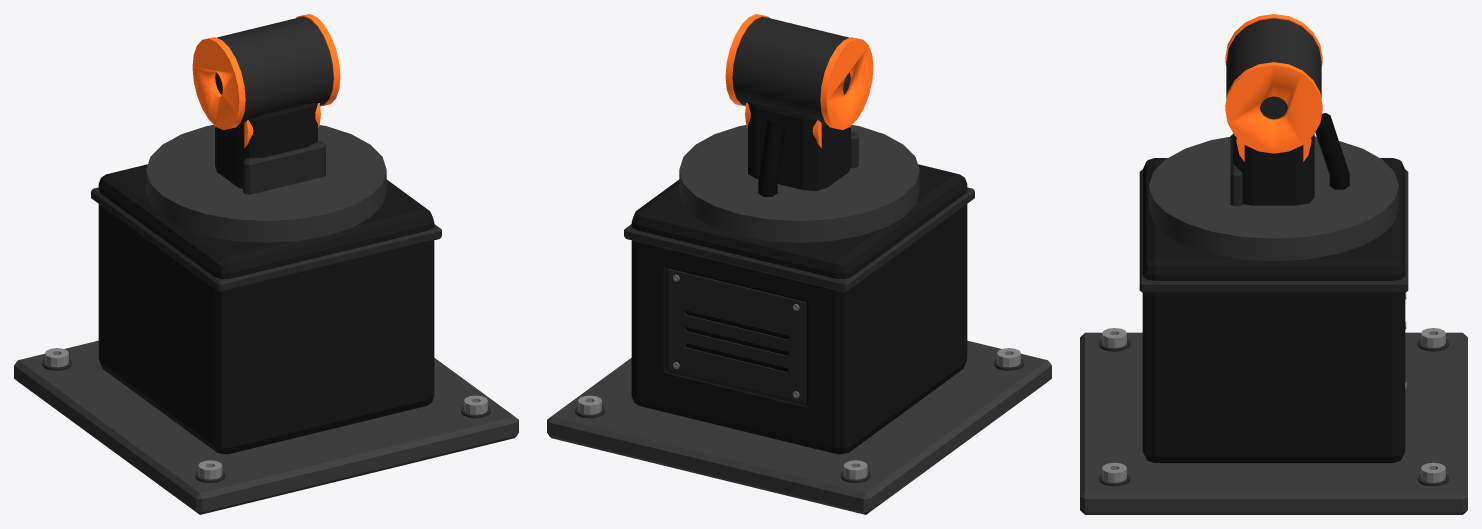
Rendered from robot-arm.glb.
The picture shows the model from 3 angles, left to right: view 1: azimuth 30°, elevation 25°; view 2: azimuth 150°, elevation 25°; view 3: azimuth 270°, elevation 25°; orthographic projection. The views are drawn at different scales.
Parts seen in each view (by area): view 1: robot-arm, UpperArm; view 2: robot-arm, UpperArm; view 3: robot-arm, UpperArm.
Part boxes in pixels (x1,y1,x2,y2): robot-arm: [14, 125, 518, 514]; UpperArm: [192, 14, 340, 194]; robot-arm: [547, 125, 1051, 514]; UpperArm: [725, 14, 873, 196]; robot-arm: [1080, 136, 1467, 514]; UpperArm: [1225, 14, 1349, 206].
Size of the model in its own units: 0.62 by 0.786 by 0.62.
Materials: 1 (1 with a texture image).
